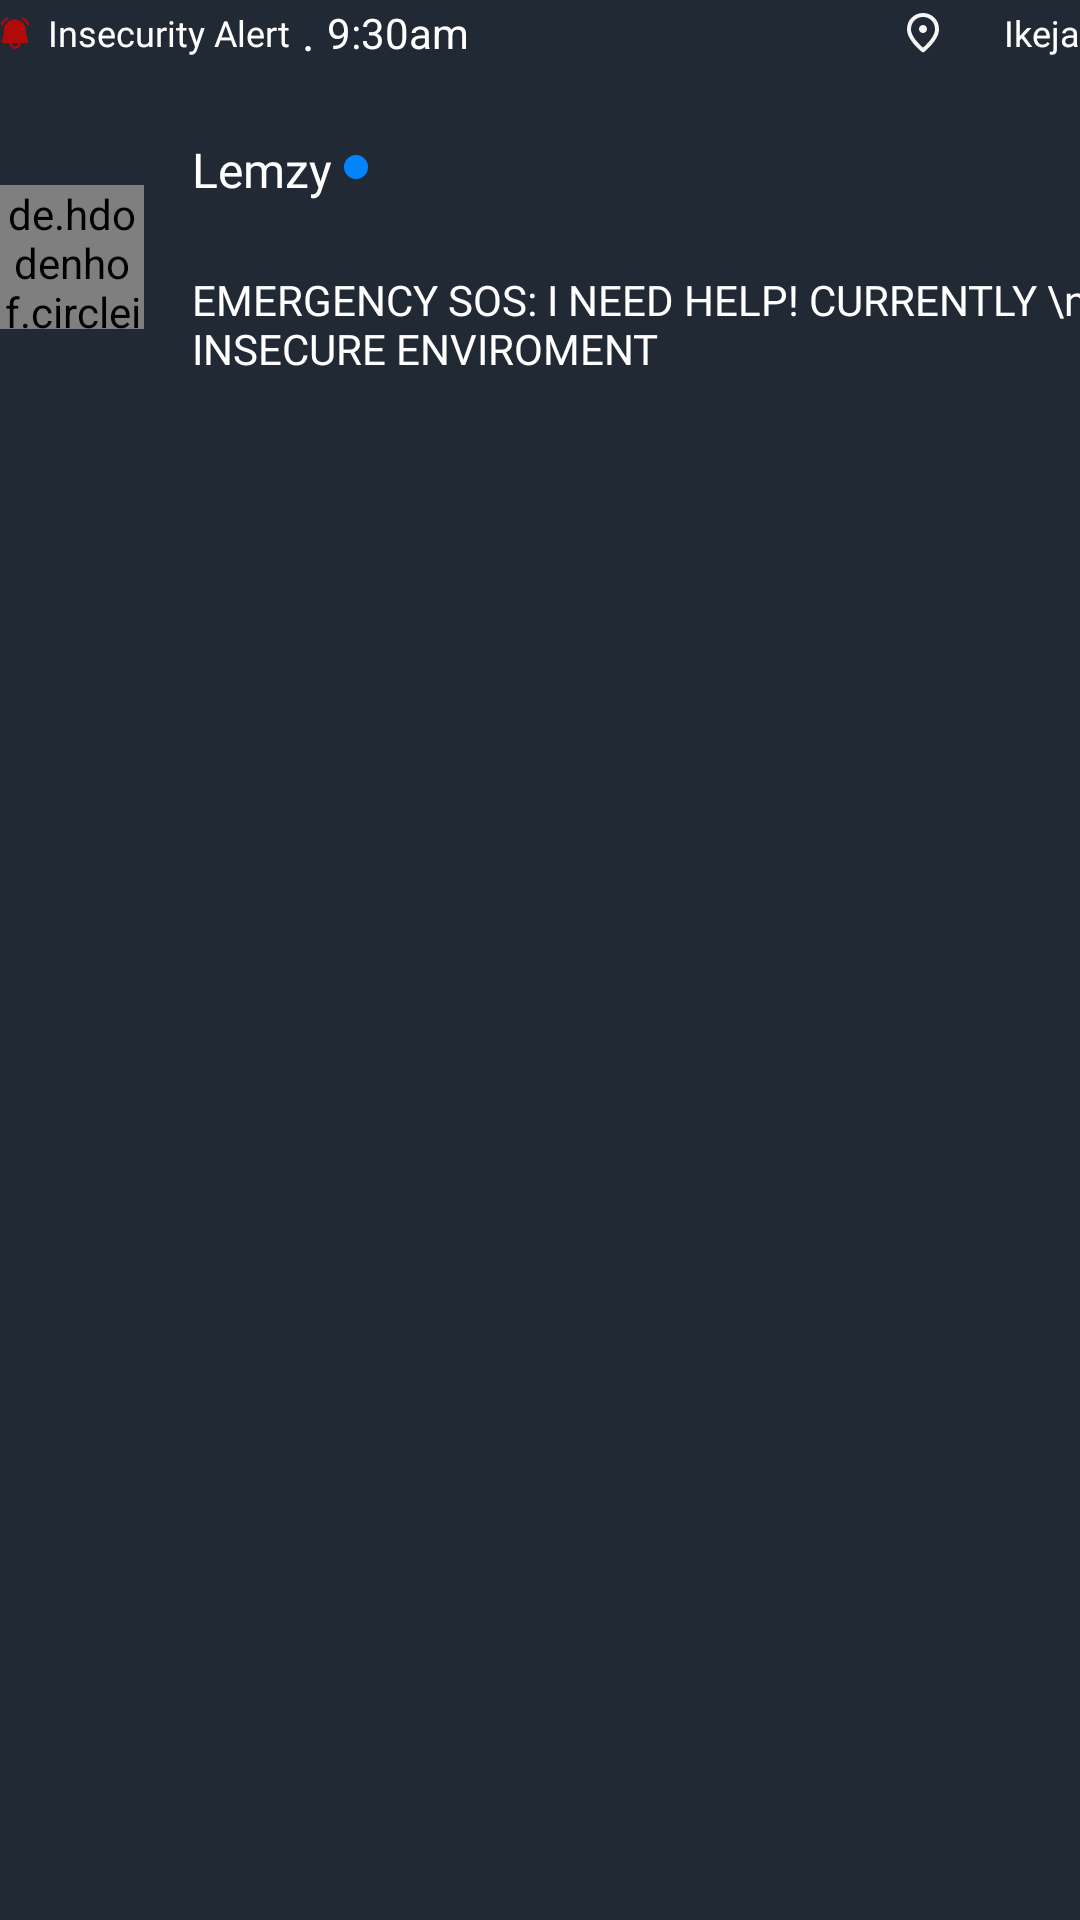

Screen size 1080w x 1920h. Icon name, then its box in pixels as bbox(x1, y1, x2, y2):
location alert: bbox(907, 13, 939, 53)
